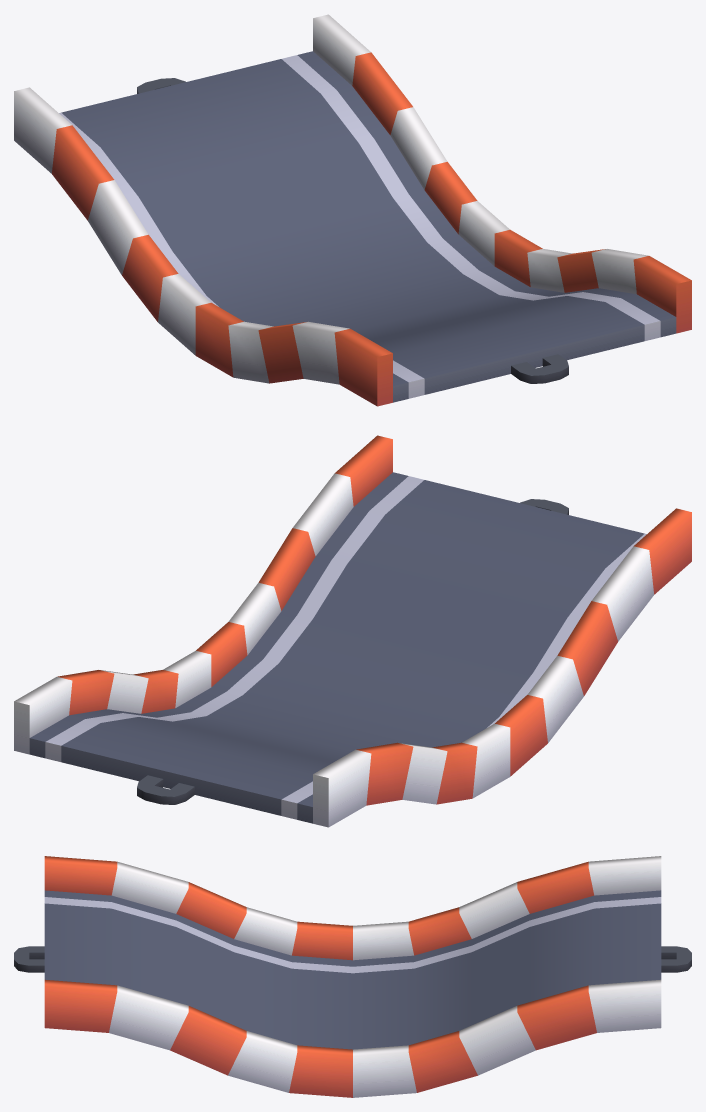
The model's file is track-road-wide-straight-bump-down.glb.
3 views of the same model, one above another, from view 1: azimuth 30°, elevation 25°; view 2: azimuth 150°, elevation 25°; view 3: azimuth 270°, elevation 25° (orthographic). The views are drawn at different scales.
Parts seen in each view (by area): view 1: track-road-wide-straight-bump-down; view 2: track-road-wide-straight-bump-down; view 3: track-road-wide-straight-bump-down.
Part boxes in pixels (<box>): track-road-wide-straight-bump-down: <box>14,14,691,406</box>; track-road-wide-straight-bump-down: <box>14,435,691,827</box>; track-road-wide-straight-bump-down: <box>14,856,691,1097</box>.
Bounding box in the file's own units: 2 × 0.7998 × 4.4.
Materials: 1 (1 with a texture image).
